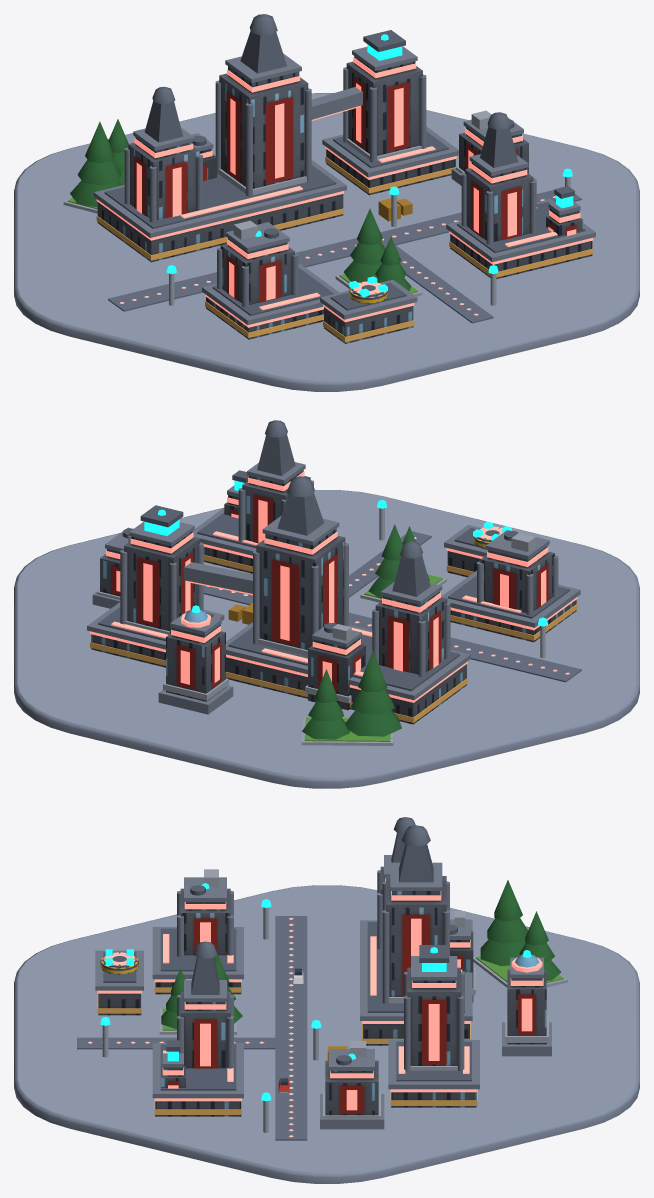
The model's file is district_scifi_red.glb.
3 renders of one model, top to bottom at view 1: azimuth 30°, elevation 25°; view 2: azimuth 150°, elevation 25°; view 3: azimuth 270°, elevation 25°, orthographic.
Parts seen in each view (by area): view 1: district_scifi_red; view 2: district_scifi_red; view 3: district_scifi_red.
Boxes of the visible parts, x1,y1,x2,y2 form: district_scifi_red: (14, 14, 639, 391); district_scifi_red: (14, 420, 639, 788); district_scifi_red: (14, 817, 639, 1183).
Size of the model in its own units: 1.92 by 0.6313 by 1.75.
3 materials, 1 textured.
